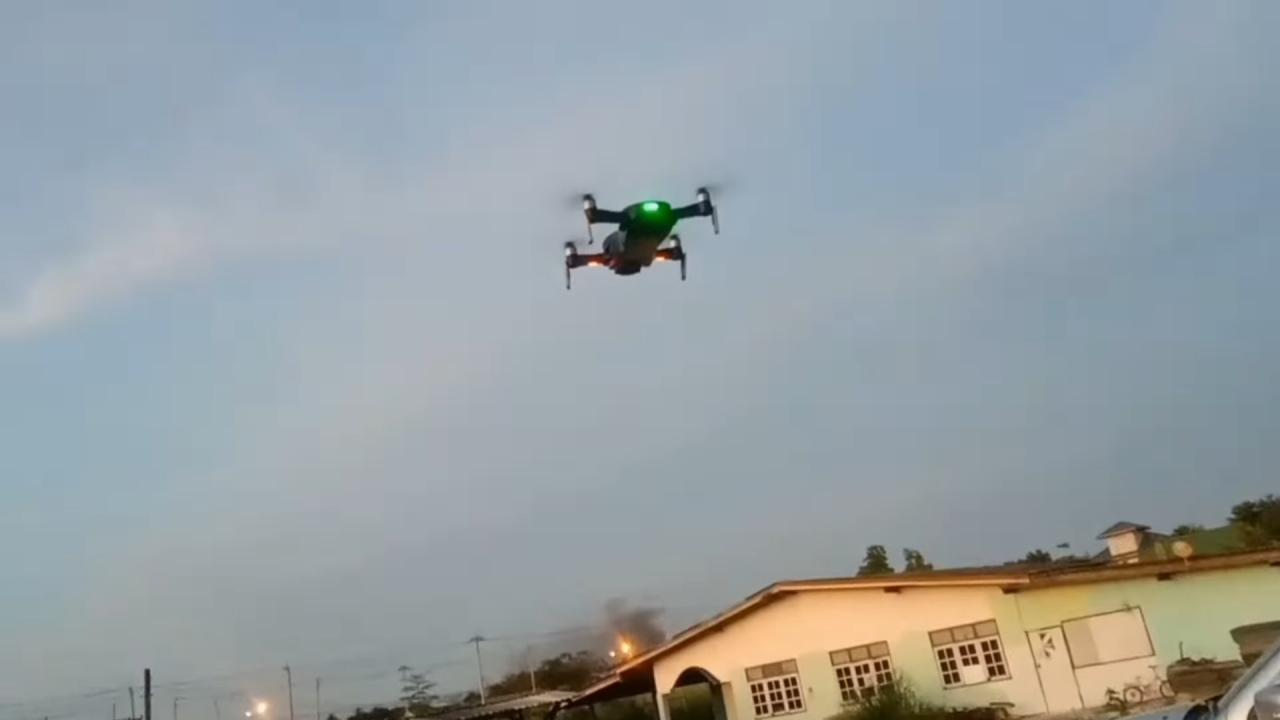Drone: (543, 172, 728, 298)
